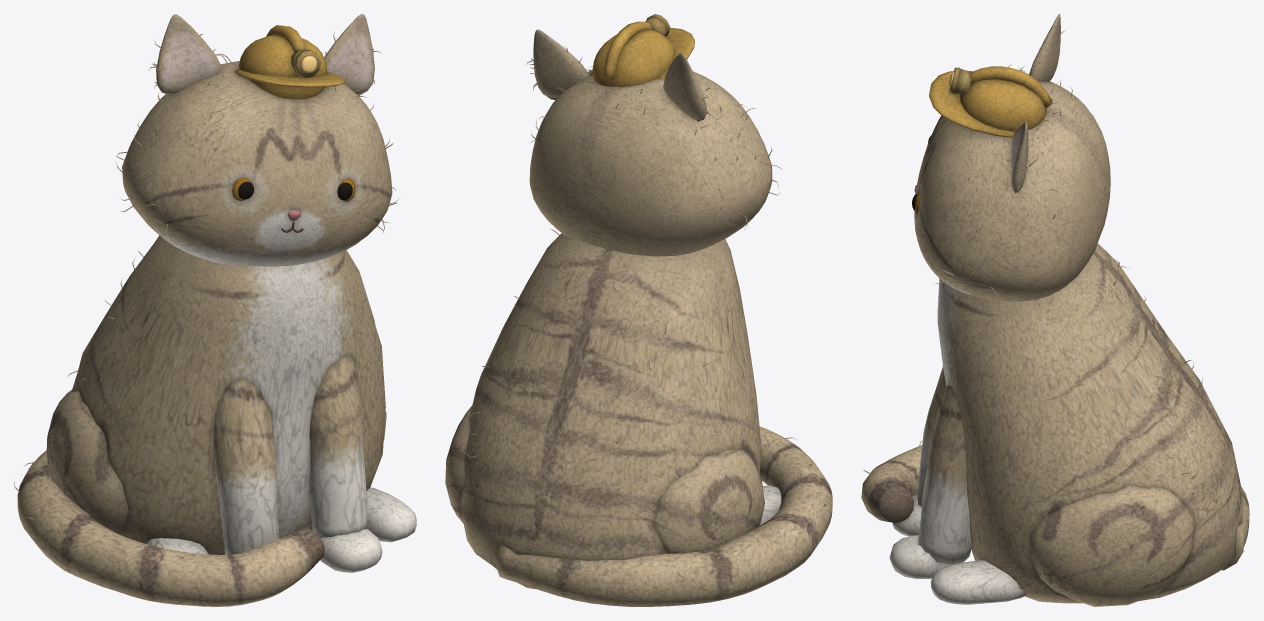
Rendered from cat.fbx.
3 renders of one model, left to right at view 1: azimuth 30°, elevation 25°; view 2: azimuth 150°, elevation 25°; view 3: azimuth 270°, elevation 25°, orthographic. The views are drawn at different scales.
Visible parts, largest first — view 1: Cat_Body; view 2: Cat_Body; view 3: Cat_Body.
Boxes of the visible parts, x1=… form: Cat_Body: x1=14, y1=14, x2=416, y2=606; Cat_Body: x1=445, y1=14, x2=832, y2=606; Cat_Body: x1=861, y1=14, x2=1249, y2=606.
Size of the model in its own units: 2.12 by 3.13 by 2.16.
3 materials, 1 textured.
